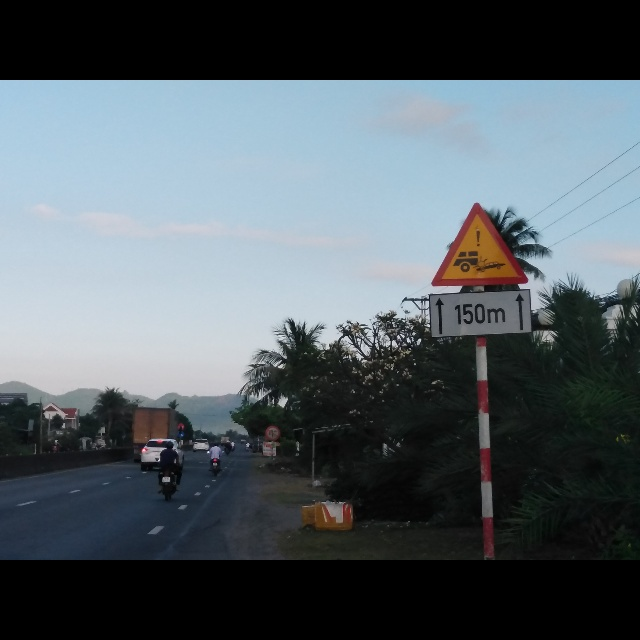Đoạn đường hay xảy ra tai nạn: (432, 200, 529, 286)
